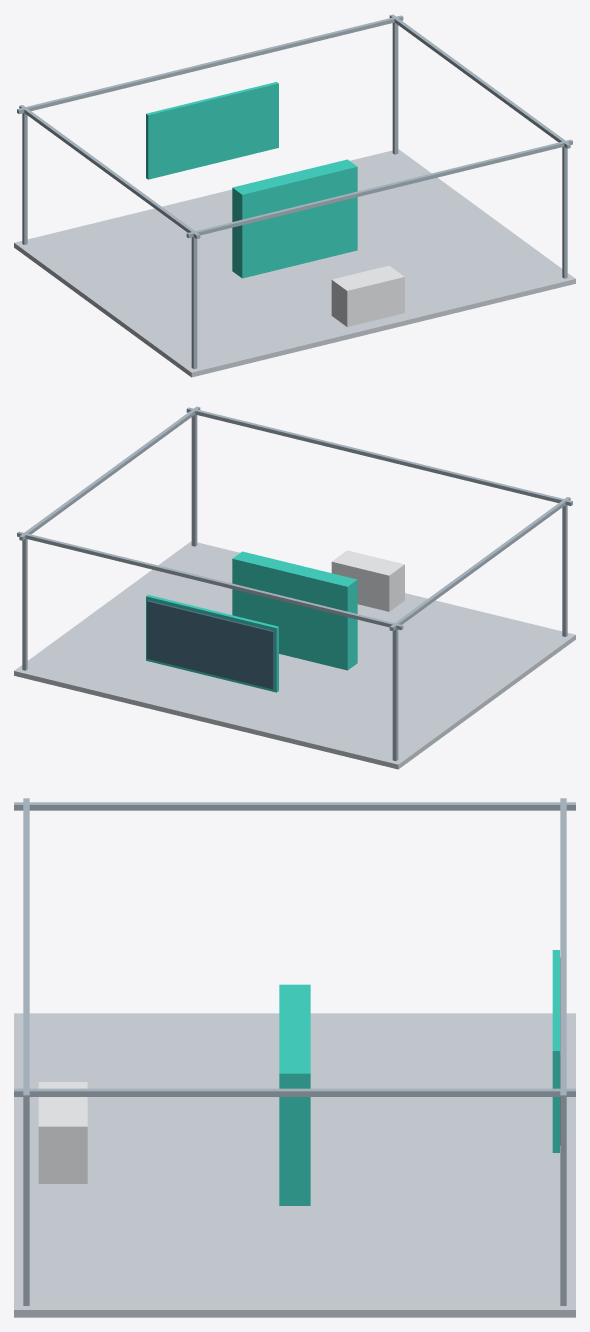
The picture shows the model from 3 angles, top to bottom: view 1: azimuth 30°, elevation 25°; view 2: azimuth 150°, elevation 25°; view 3: azimuth 270°, elevation 25°; orthographic projection. The views are drawn at different scales.
Parts seen in each view (by area): view 1: Exhibition Booth Concept; view 2: Exhibition Booth Concept; view 3: Exhibition Booth Concept.
Part boxes in pixels (x1,y1,x2,y2): Exhibition Booth Concept: (14, 14, 575, 377); Exhibition Booth Concept: (14, 406, 575, 769); Exhibition Booth Concept: (14, 798, 575, 1317).
Size of the model in its own units: 10 by 3.49 by 8.
